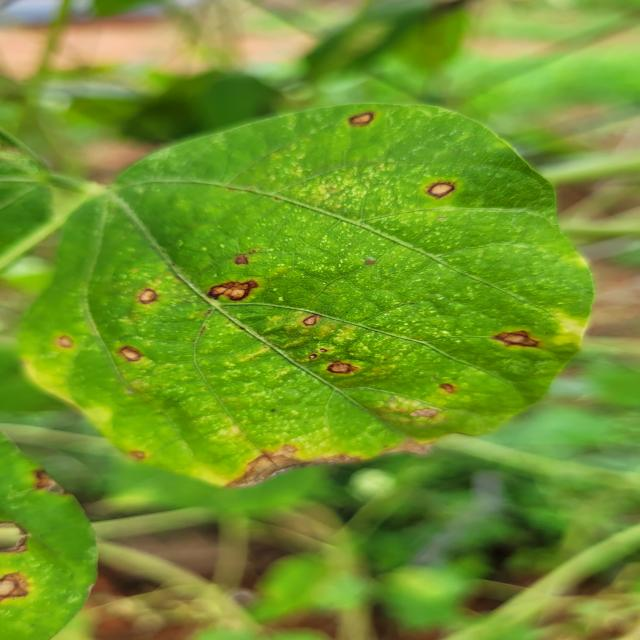Dolicos bean_cercospora leaf spot: (0, 97, 594, 487)
